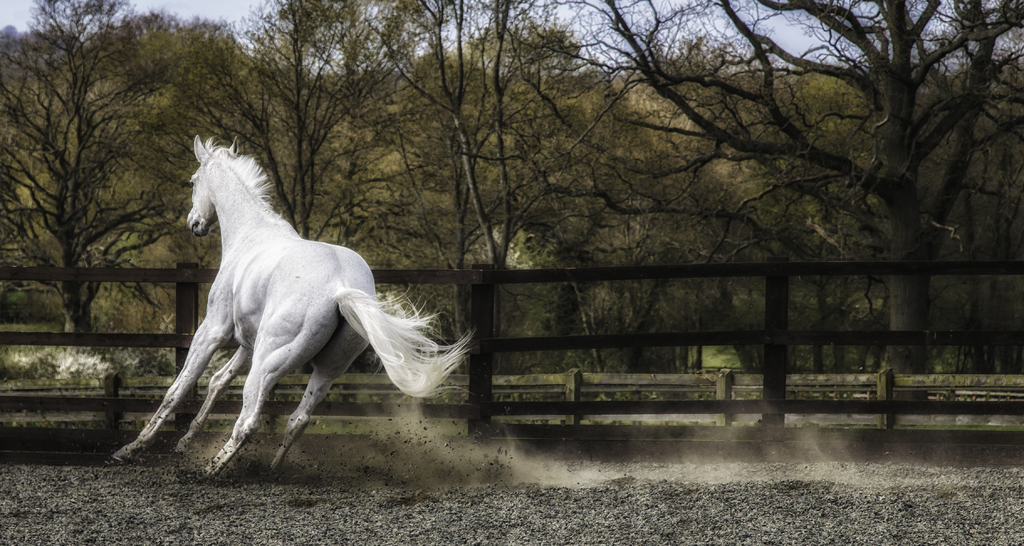horse: (101, 138, 477, 474)
